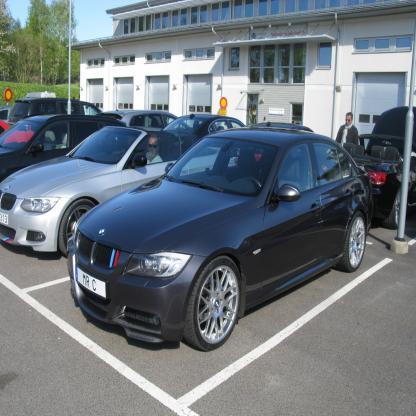Car: (1, 96, 416, 354)
